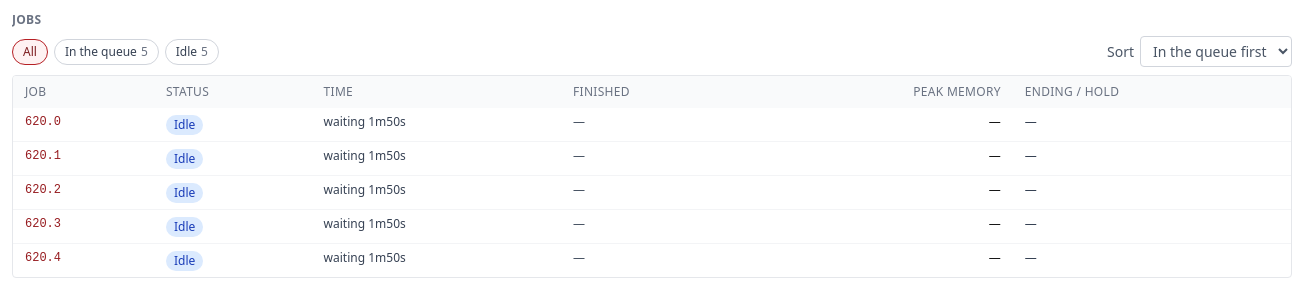
JobsSection › offers only the groups the batch has, and says when a filter has no jobs
The image size is (1304, 295).
Click the button "Idle5" at (192, 52), box [165,38,219,64]
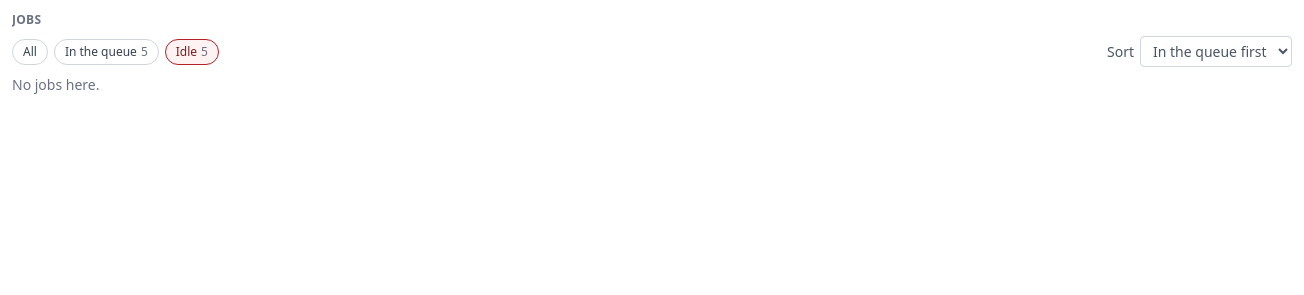
Expected: the text "No jobs here." is shown, [12,75,100,94]
